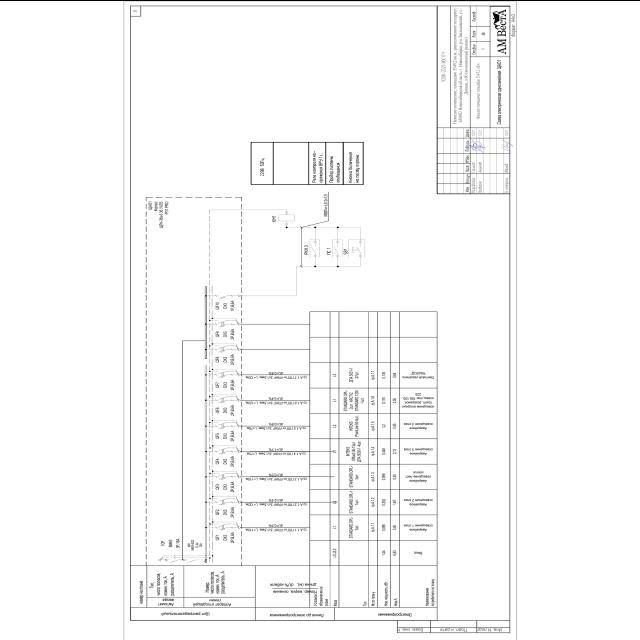-: (148, 200, 170, 228), (222, 479, 235, 492), (222, 429, 235, 442), (221, 531, 235, 543), (222, 328, 235, 340), (222, 299, 235, 311), (222, 378, 235, 390), (222, 454, 234, 466), (222, 403, 234, 415), (192, 538, 204, 550), (222, 506, 234, 518), (223, 352, 235, 364), (168, 537, 180, 548)
KM: (186, 558, 196, 562)
QF: (217, 446, 227, 454), (217, 496, 227, 504), (217, 522, 227, 530), (218, 318, 228, 326), (216, 292, 228, 298), (217, 472, 227, 479), (217, 373, 227, 378), (218, 348, 228, 352), (218, 424, 228, 428), (217, 398, 227, 402)
QS: (168, 558, 178, 562)
